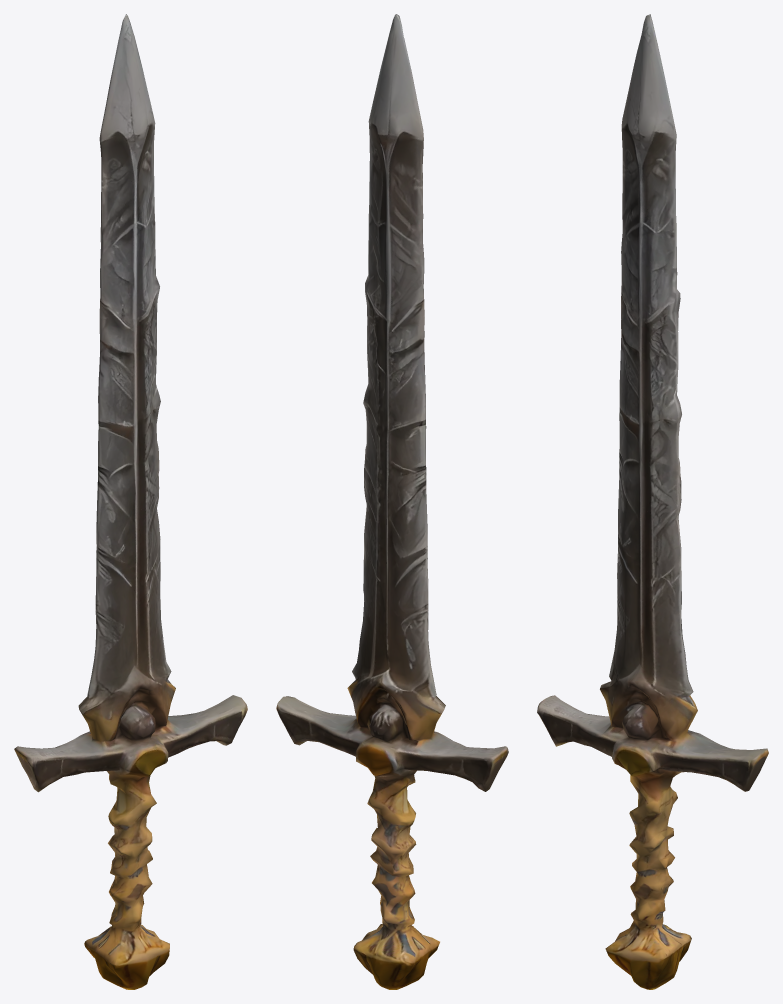
The model's file is wpn_cursedblade.glb.
3 views of the same model, side by side, from view 1: azimuth 30°, elevation 25°; view 2: azimuth 150°, elevation 25°; view 3: azimuth 330°, elevation 25° (orthographic).
Visible parts, largest first — view 1: tripo_node_f7590273-5f74-4d01-afb3-b0d4ac51dd0b; view 2: tripo_node_f7590273-5f74-4d01-afb3-b0d4ac51dd0b; view 3: tripo_node_f7590273-5f74-4d01-afb3-b0d4ac51dd0b.
Boxes of the visible parts, left/top/right/bottom form: tripo_node_f7590273-5f74-4d01-afb3-b0d4ac51dd0b: left=14, top=14, right=247, bottom=989; tripo_node_f7590273-5f74-4d01-afb3-b0d4ac51dd0b: left=276, top=14, right=508, bottom=989; tripo_node_f7590273-5f74-4d01-afb3-b0d4ac51dd0b: left=537, top=14, right=768, bottom=989.
Size of the model in its own units: 0.2372 by 0.997 by 0.0825.
1 material, 1 textured.
